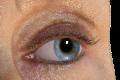eye: (53, 38, 80, 60)
